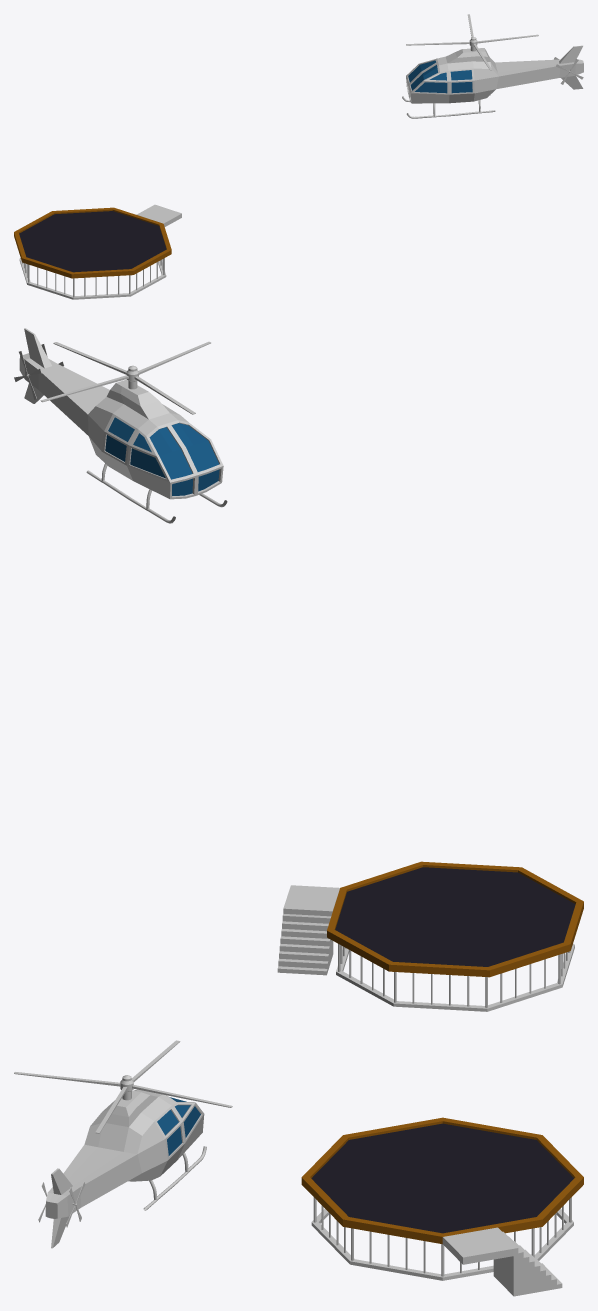
File: copter_000152.obj
The picture shows the model from 3 angles, top to bottom: view 1: azimuth 30°, elevation 25°; view 2: azimuth 150°, elevation 25°; view 3: azimuth 270°, elevation 25°; orthographic projection. The views are drawn at different scales.
Visible parts, largest first — view 1: Cylinder.001_Cylinder.012, Helicopter.007_Cylinder.008, Helicopter.001_Cylinder.001; view 2: Cylinder.001_Cylinder.012, Helicopter.007_Cylinder.008, Helicopter.001_Cylinder.001; view 3: Cylinder.001_Cylinder.012, Helicopter.007_Cylinder.008, Helicopter.001_Cylinder.001, Cylinder.002, Cylinder.004, Cylinder.003_Cylinder.005.
Boxes of the visible parts, x1,y1,x2,y2 form: Cylinder.001_Cylinder.012: [14, 204, 181, 299]; Helicopter.007_Cylinder.008: [402, 45, 583, 118]; Helicopter.001_Cylinder.001: [406, 14, 538, 70]; Cylinder.001_Cylinder.012: [277, 861, 583, 1011]; Helicopter.007_Cylinder.008: [19, 328, 227, 523]; Helicopter.001_Cylinder.001: [40, 341, 210, 414]; Cylinder.001_Cylinder.012: [301, 1117, 583, 1296]; Helicopter.007_Cylinder.008: [45, 1089, 206, 1248]; Helicopter.001_Cylinder.001: [14, 1040, 232, 1133]; Cylinder.002: [313, 1197, 571, 1276]; Cylinder.004: [321, 1205, 563, 1252]; Cylinder.003_Cylinder.005: [369, 1231, 515, 1273].
Bounding box in the file's own units: 21.56 × 10.42 × 13.67.
